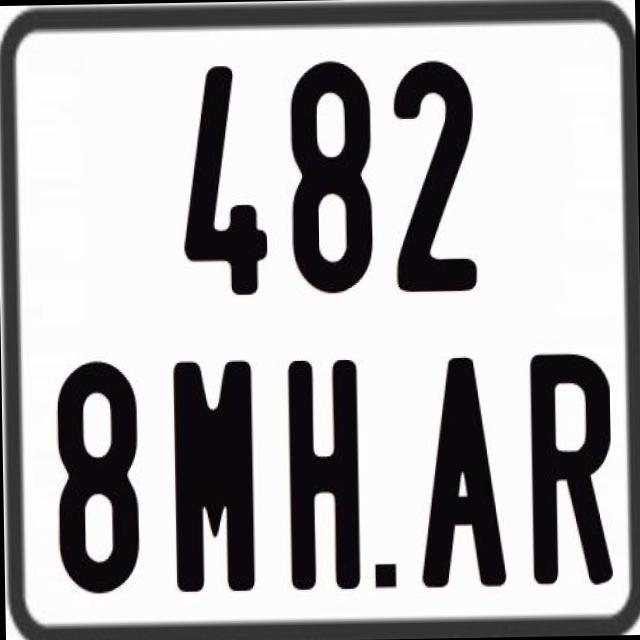2: (393, 55, 485, 295)
4: (178, 62, 265, 294)
8: (287, 57, 377, 295), (54, 360, 144, 598)
A: (418, 357, 508, 587)
H: (284, 358, 356, 594)
M: (172, 359, 260, 592)
R: (526, 352, 608, 593)
